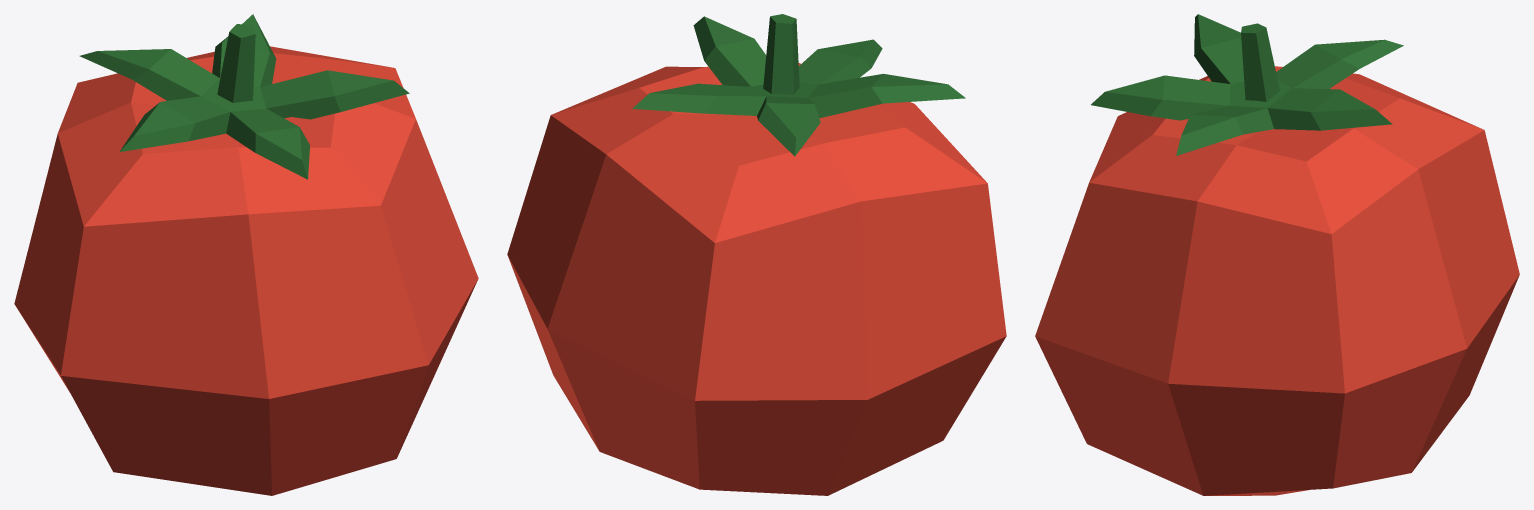
The model's file is food_tomato.fbx.
3 renders of one model, left to right at view 1: azimuth 30°, elevation 25°; view 2: azimuth 150°, elevation 25°; view 3: azimuth 270°, elevation 25°, orthographic.
Visible parts, largest first — view 1: food_tomato; view 2: food_tomato; view 3: food_tomato.
Part boxes in pixels (x1,y1,x2,y2): food_tomato: (14,14,478,495); food_tomato: (507,14,1006,495); food_tomato: (1035,14,1519,495).
Bounding box in the file's own units: 199 × 200 × 196.
